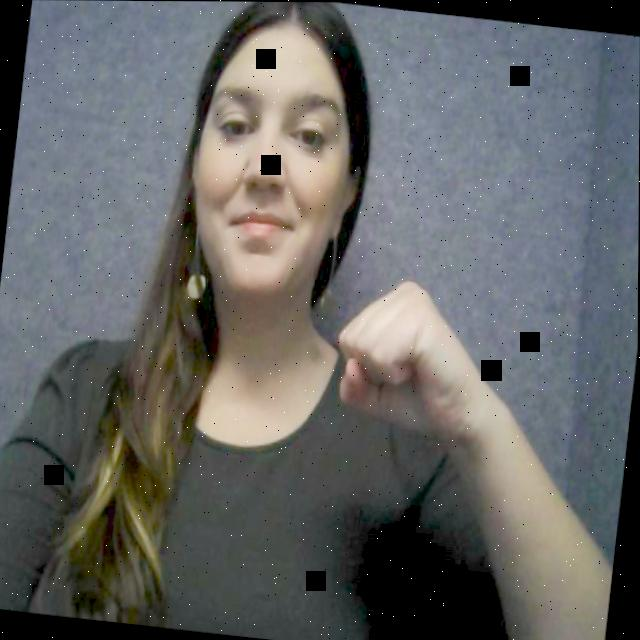Rock: (310, 263, 510, 472)
